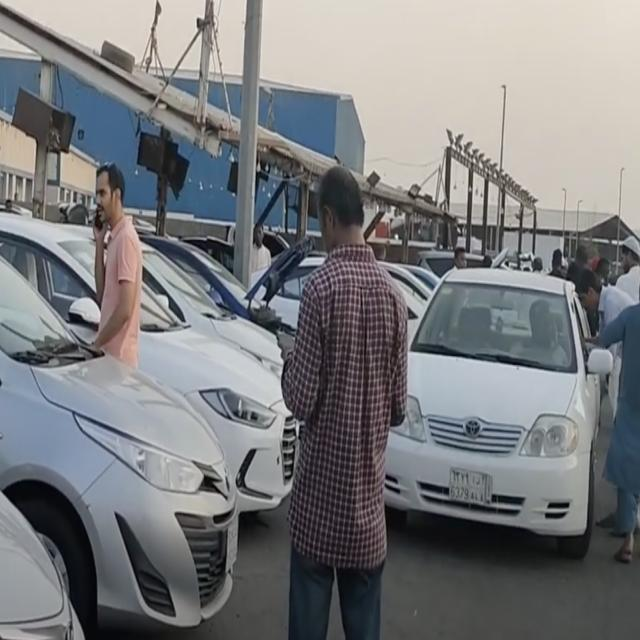license_plate: (446, 467, 495, 507)
